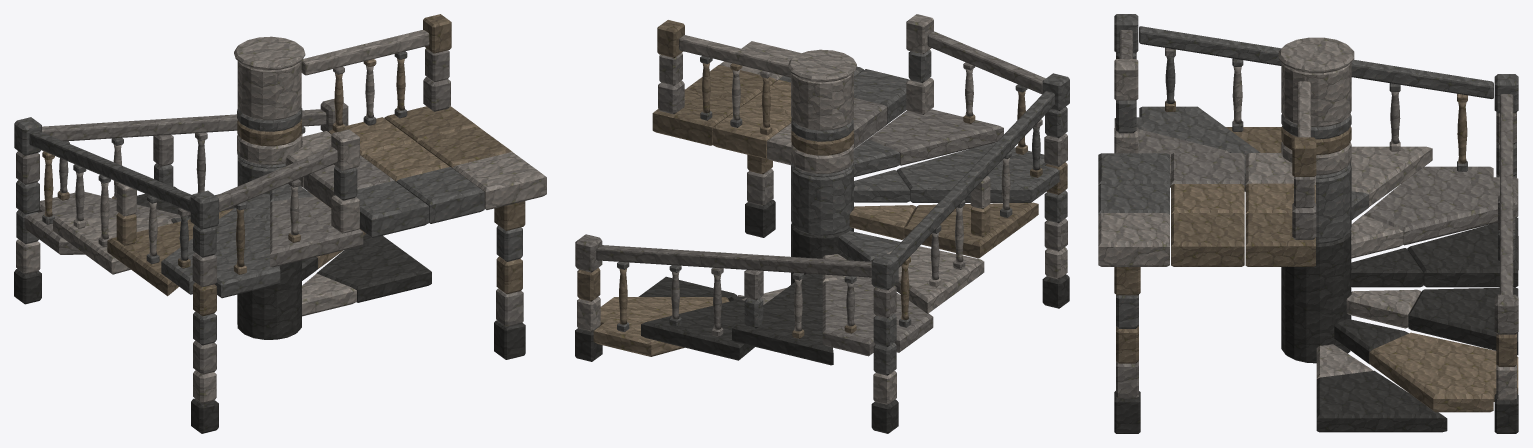
The model's file is stairs_spiral__cut_stone.glb.
3 renders of one model, left to right at view 1: azimuth 30°, elevation 25°; view 2: azimuth 150°, elevation 25°; view 3: azimuth 270°, elevation 25°, orthographic. The views are drawn at different scales.
Parts seen in each view (by area): view 1: model; view 2: model; view 3: model.
Boxes of the visible parts, x1=… form: model: x1=14, y1=14, x2=546, y2=433; model: x1=575, y1=14, x2=1069, y2=433; model: x1=1098, y1=14, x2=1518, y2=433.
Bounding box in the file's own units: 3.83 × 2.98 × 3.83.
6 materials, 6 textured.
